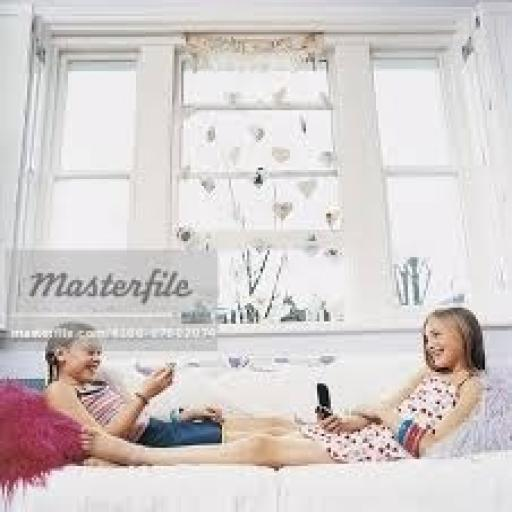sitting: (41, 303, 489, 468)
